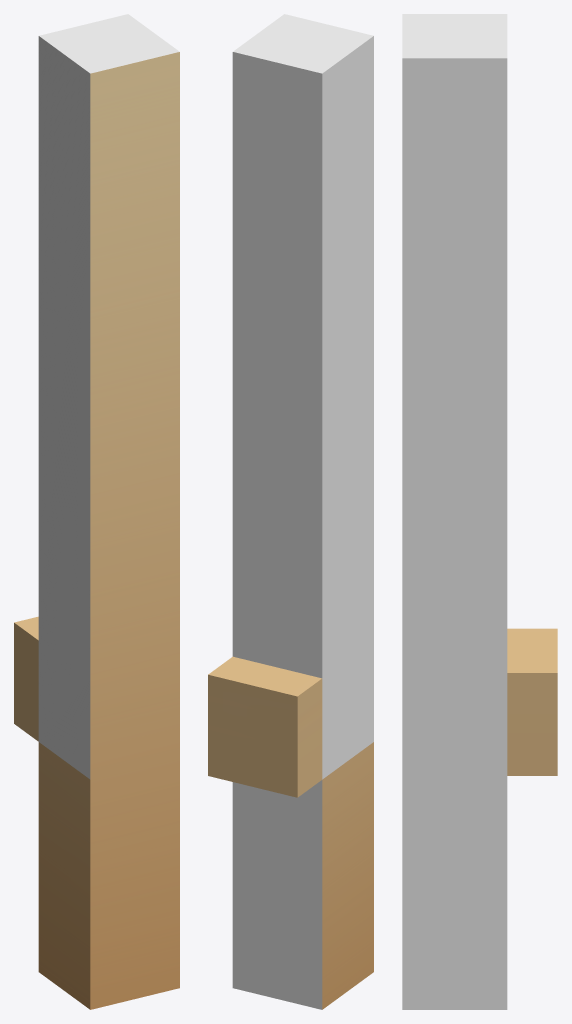
File: base_outer_no_corner_m.fbx
The picture shows the model from 3 angles, left to right: view 1: azimuth 30°, elevation 25°; view 2: azimuth 150°, elevation 25°; view 3: azimuth 270°, elevation 25°; orthographic projection.
Visible parts, largest first — view 1: base.outer.no.corner.mirrored; view 2: base.outer.no.corner.mirrored; view 3: base.outer.no.corner.mirrored.
Part boxes in pixels (x1,y1,x2,y2): base.outer.no.corner.mirrored: (14,14,179,1009); base.outer.no.corner.mirrored: (208,14,373,1009); base.outer.no.corner.mirrored: (402,14,557,1009).
Bounding box in the file's own units: 30 × 300 × 44.35.
